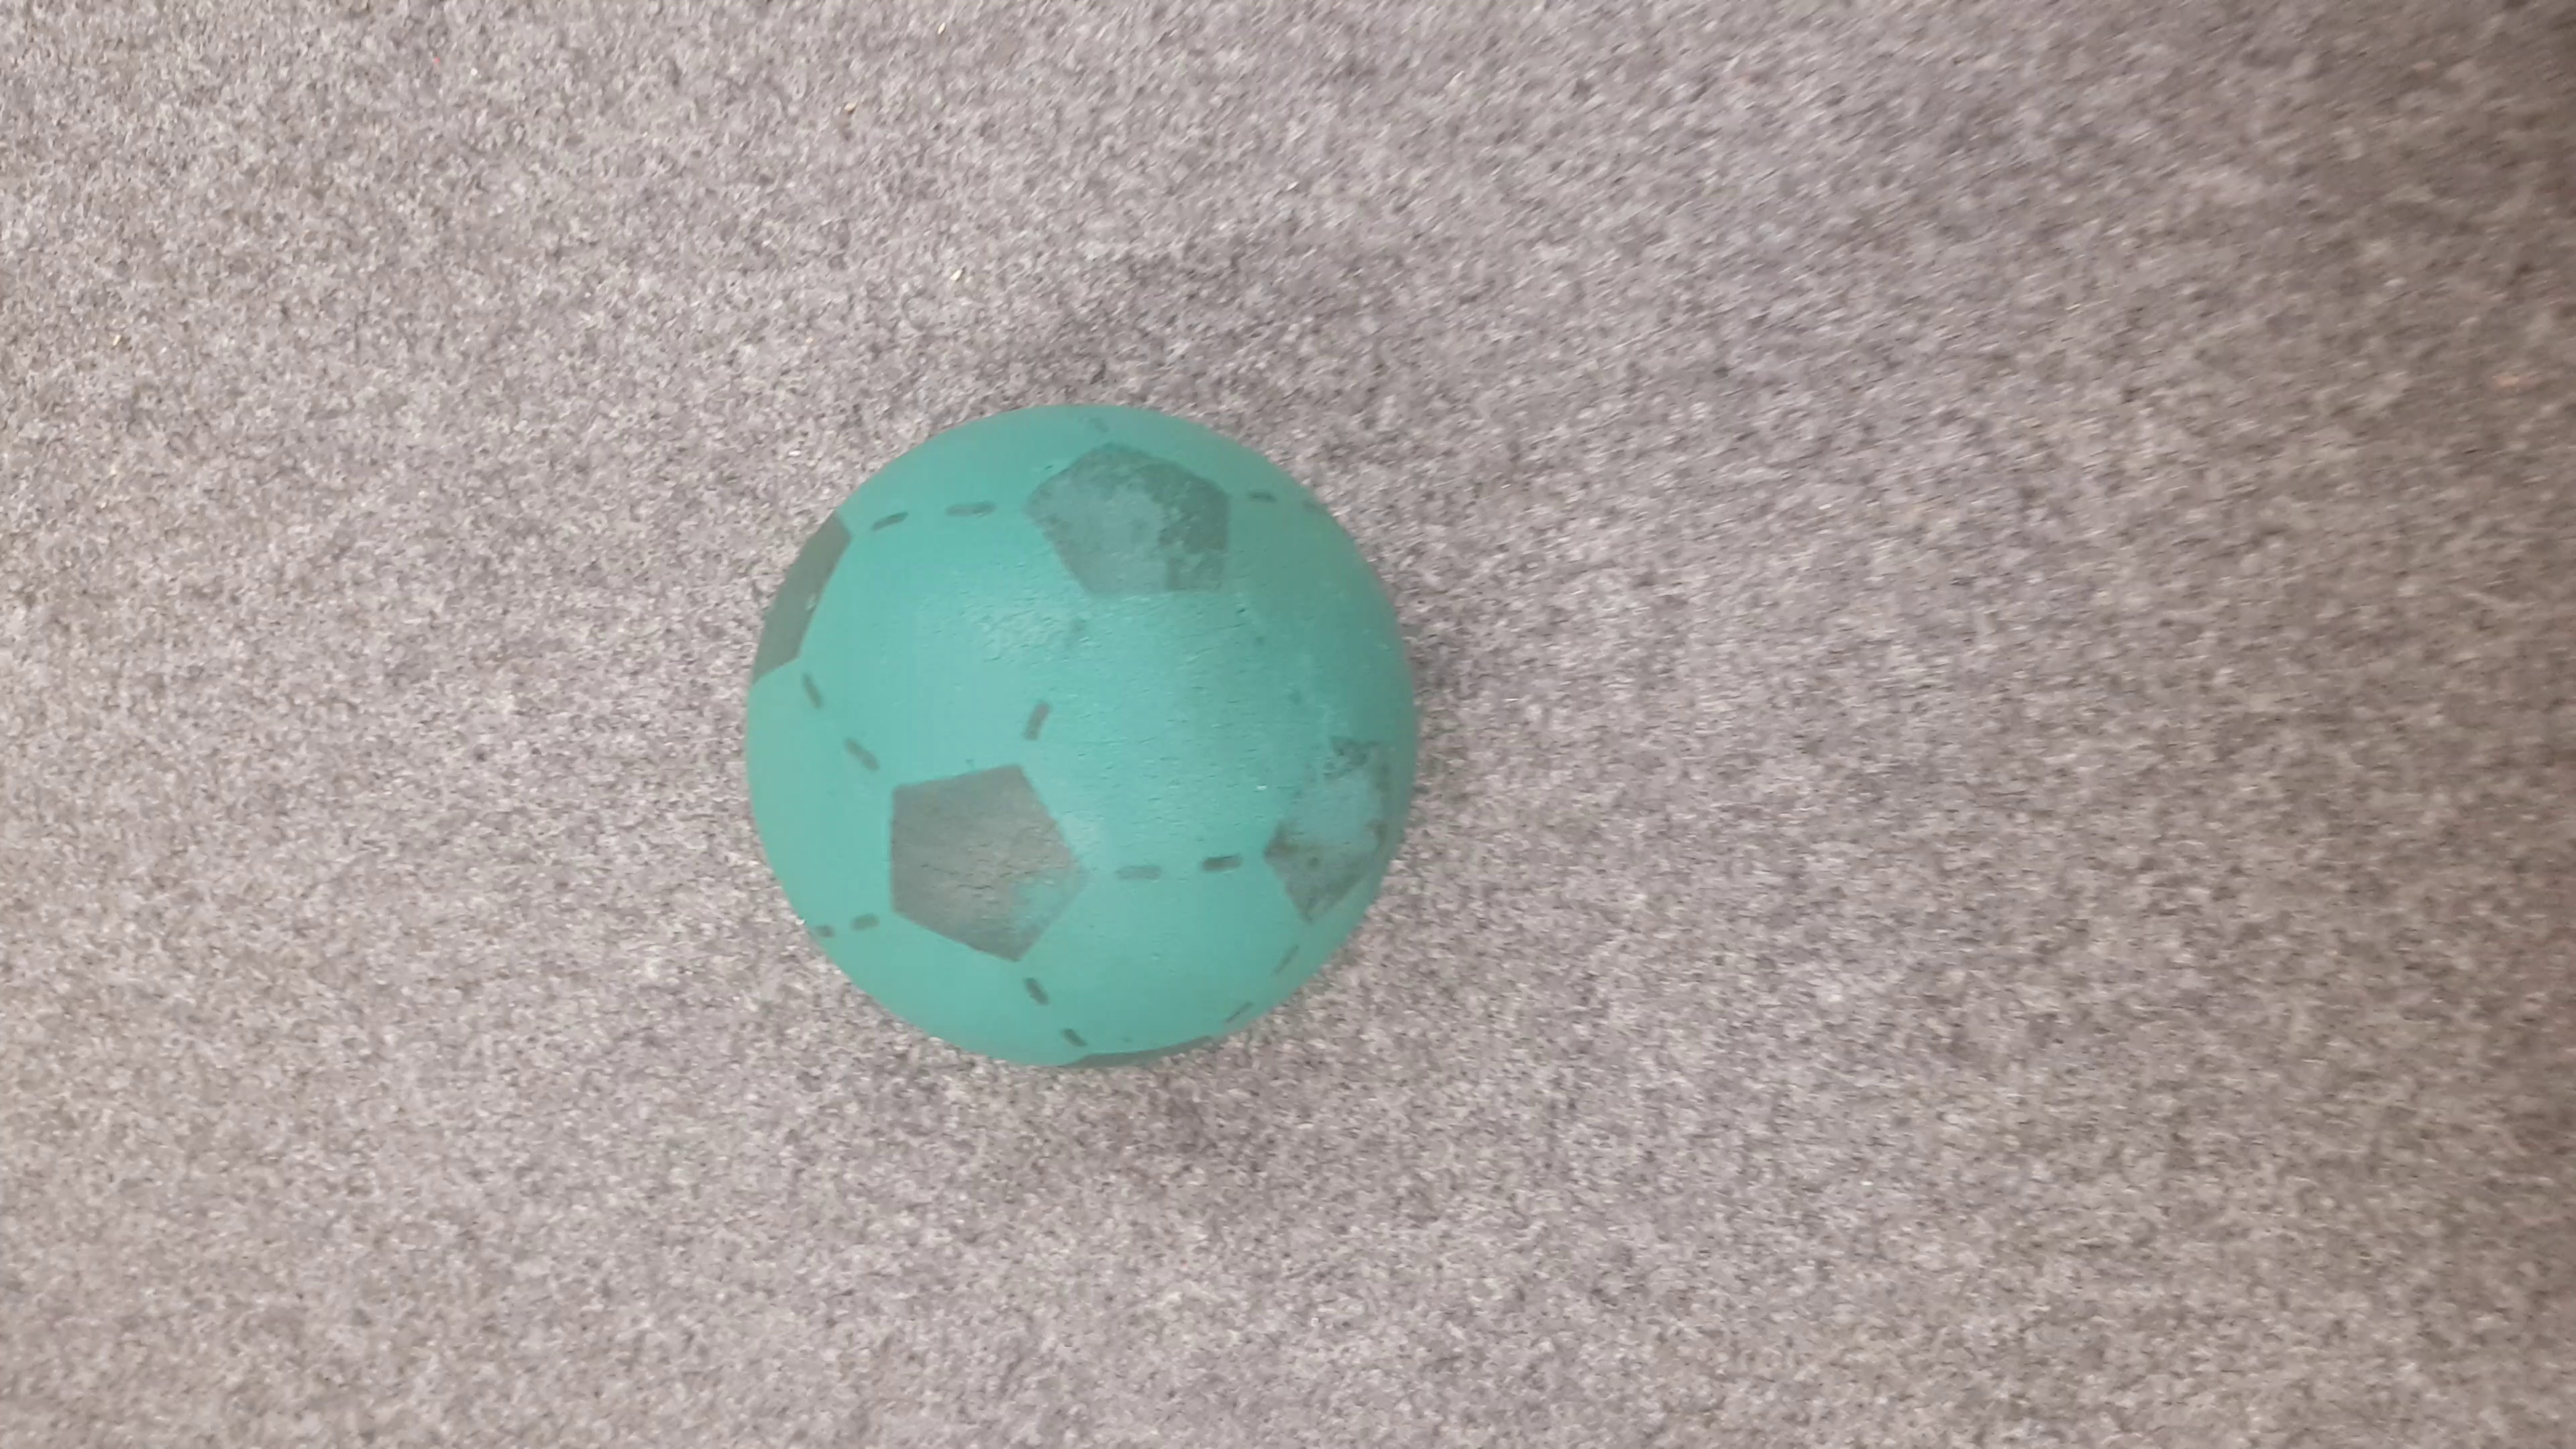kick: (741, 400, 1419, 1065)
